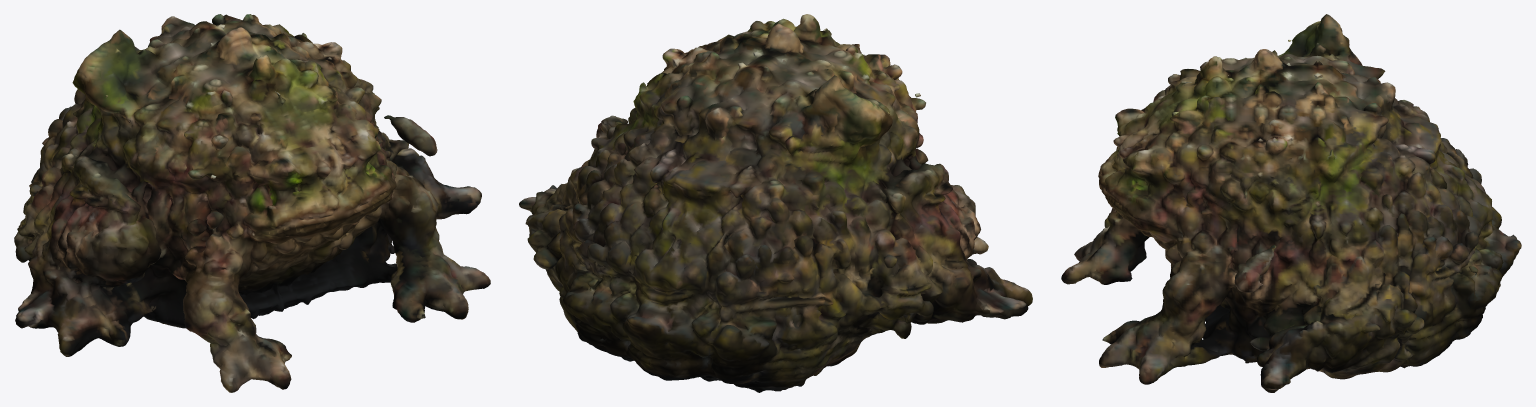
The model's file is koerper.glb.
3 renders of one model, left to right at view 1: azimuth 30°, elevation 25°; view 2: azimuth 150°, elevation 25°; view 3: azimuth 270°, elevation 25°, orthographic. The views are drawn at different scales.
Visible parts, largest first — view 1: geometry_0; view 2: geometry_0; view 3: geometry_0.
Boxes of the visible parts, x1,y1,x2,y2 form: geometry_0: [14, 14, 490, 392]; geometry_0: [519, 14, 1032, 392]; geometry_0: [1061, 14, 1521, 392].
Bounding box in the file's own units: 1.75 × 1 × 1.51.
